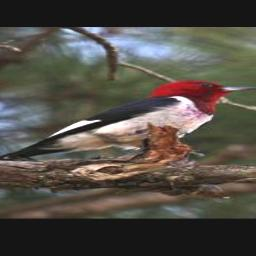Woodpecker: (0, 79, 256, 161)
